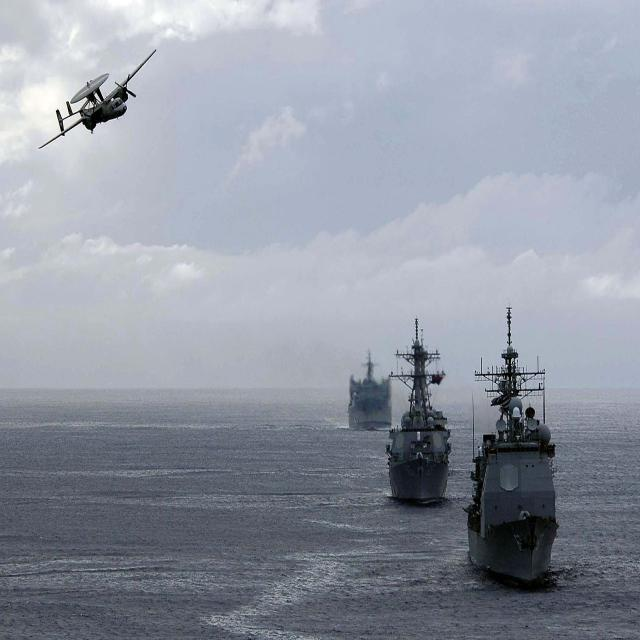MIL_Plane: (37, 47, 157, 148)
